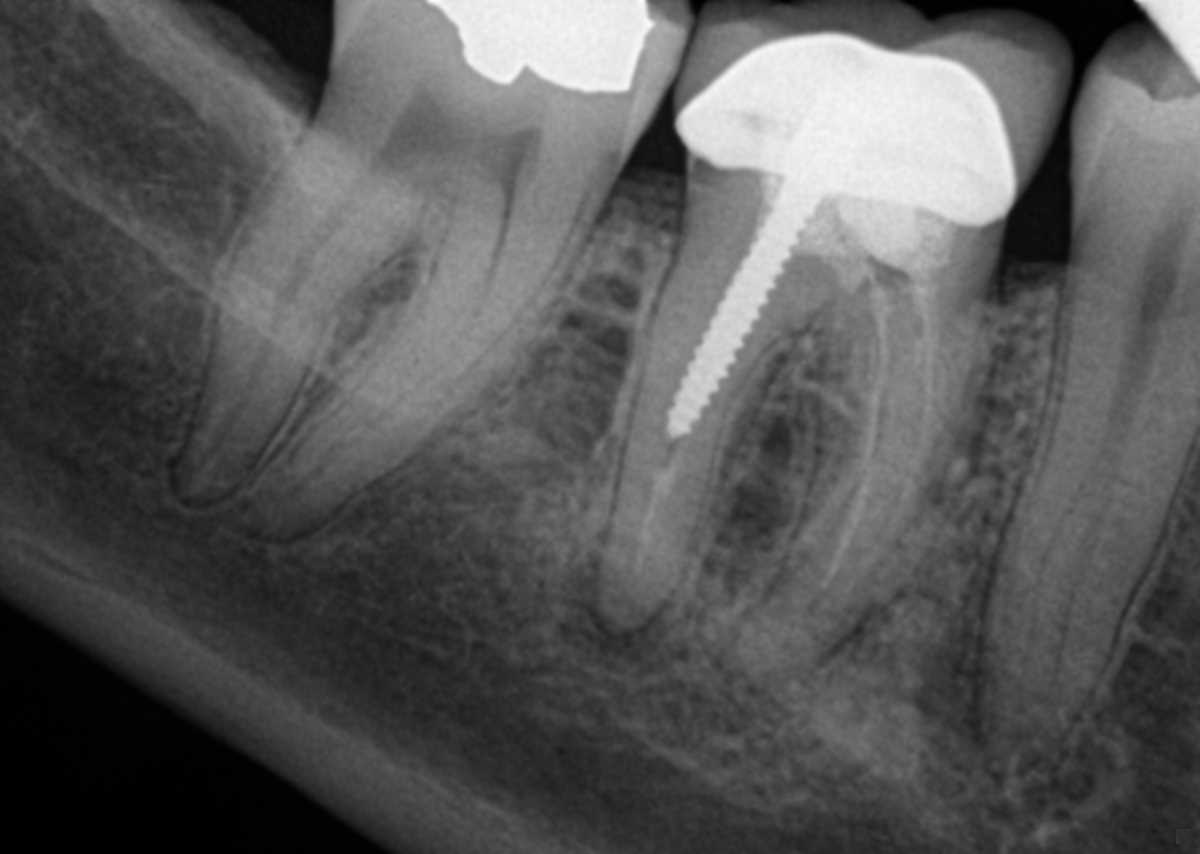Apical Lesion: (918, 566, 1129, 838), (562, 562, 670, 671), (701, 632, 785, 727)
Distal Canal: (177, 167, 379, 484)
Distal Root: (174, 105, 420, 512), (594, 219, 826, 631)
Main Canal: (1024, 312, 1165, 692)
Main Root: (977, 293, 1200, 775)
Mesial Canal: (429, 210, 512, 378)
Mesial Root: (237, 203, 583, 544), (734, 309, 995, 682)
